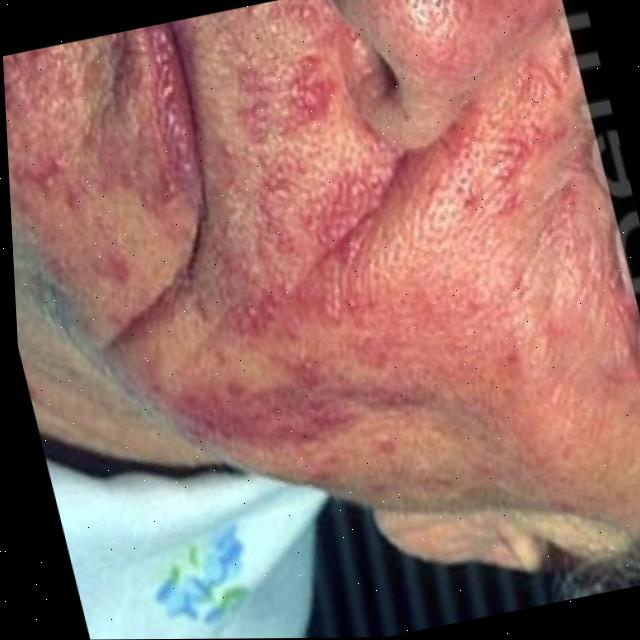Rosacea: (124, 92, 640, 532), (240, 40, 342, 124), (7, 142, 104, 227), (404, 0, 534, 51)
